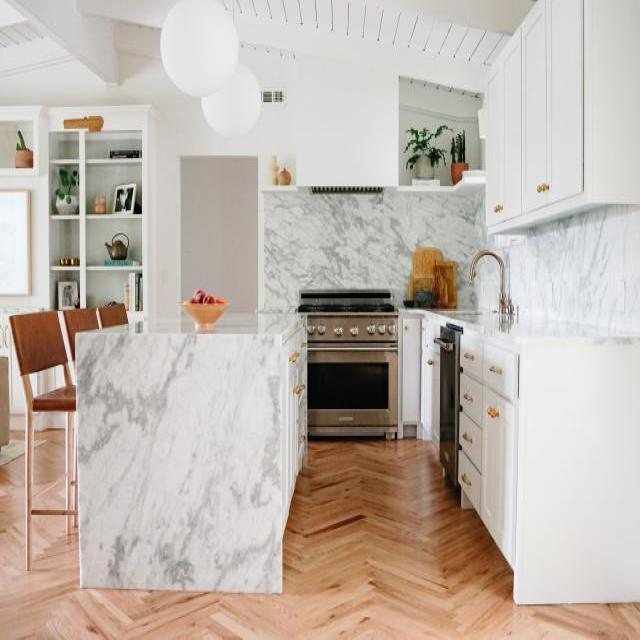dishwasher: (434, 320, 463, 498)
